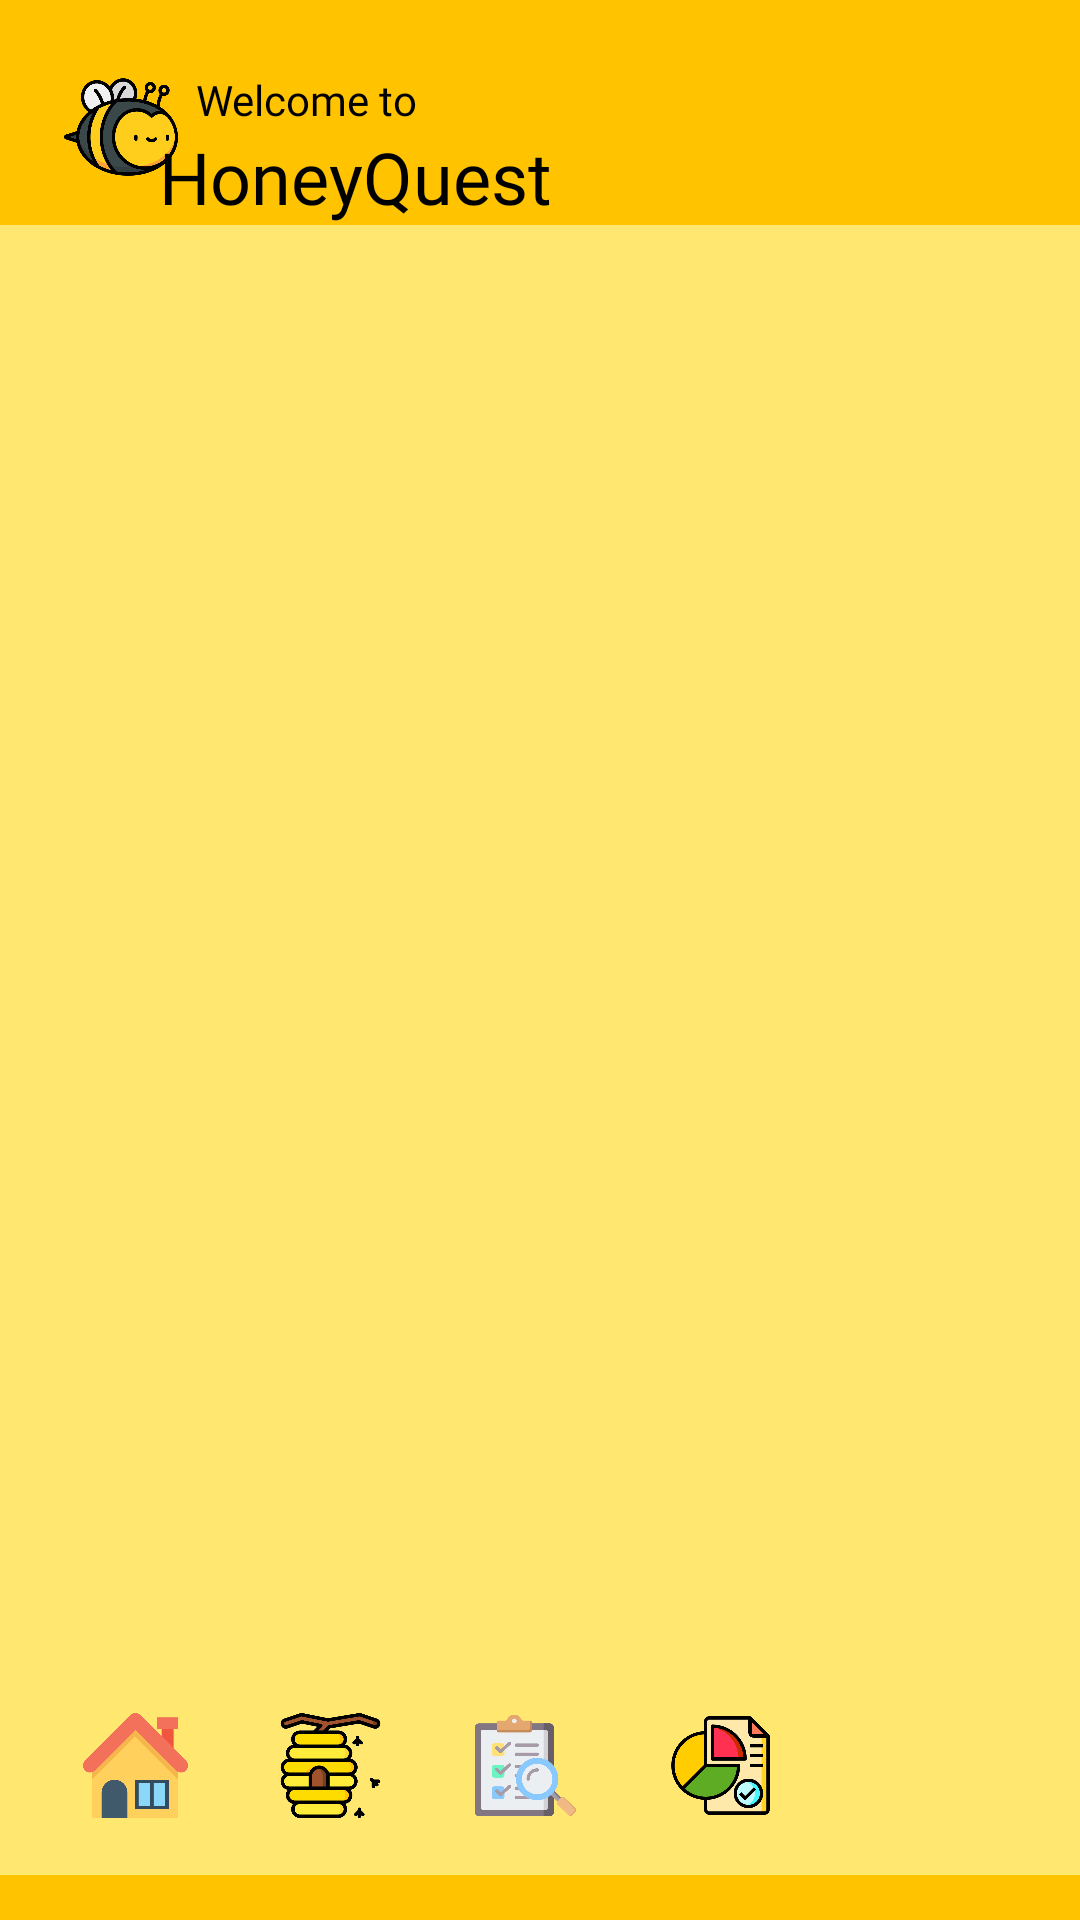

Where icons sit on this 1080 × 1920 app screen, as (x1, y1, x2, y2):
Home: (83, 1713, 188, 1818)
Inspection: (475, 1715, 576, 1816)
Reports: (671, 1716, 770, 1815)
